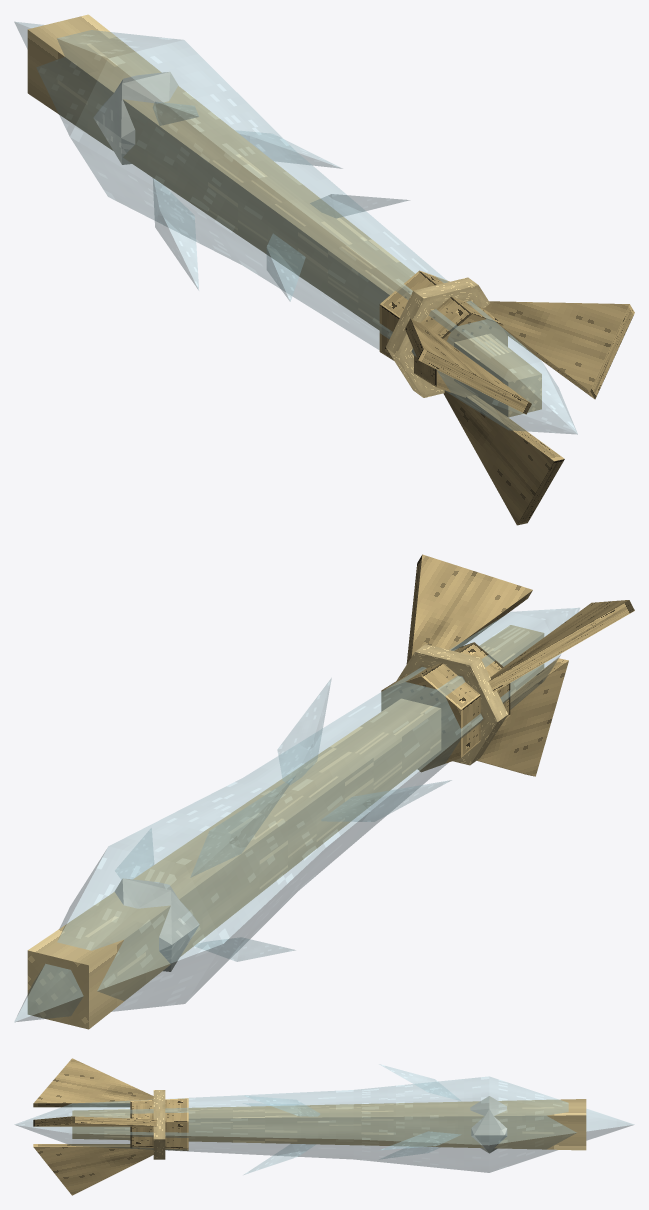
The model's file is proj_thorn.gltf.
3 views of the same model, one above another, from view 1: azimuth 30°, elevation 25°; view 2: azimuth 150°, elevation 25°; view 3: azimuth 270°, elevation 25° (orthographic). The views are drawn at different scales.
Parts seen in each view (by area): view 1: glass, core, collar; view 2: glass, core, collar; view 3: glass, core, collar.
Part boxes in pixels (x1,y1,x2,y2): glass: (14, 22, 577, 434); core: (27, 14, 541, 417); collar: (379, 270, 634, 525); glass: (14, 608, 579, 1021); core: (27, 625, 544, 1029); collar: (381, 554, 634, 776); glass: (15, 1064, 633, 1174); core: (72, 1090, 586, 1159); collar: (33, 1058, 188, 1195).
Size of the model in its own units: 0.142 by 0.1346 by 0.64.
Materials: 3 (3 with a texture image).
